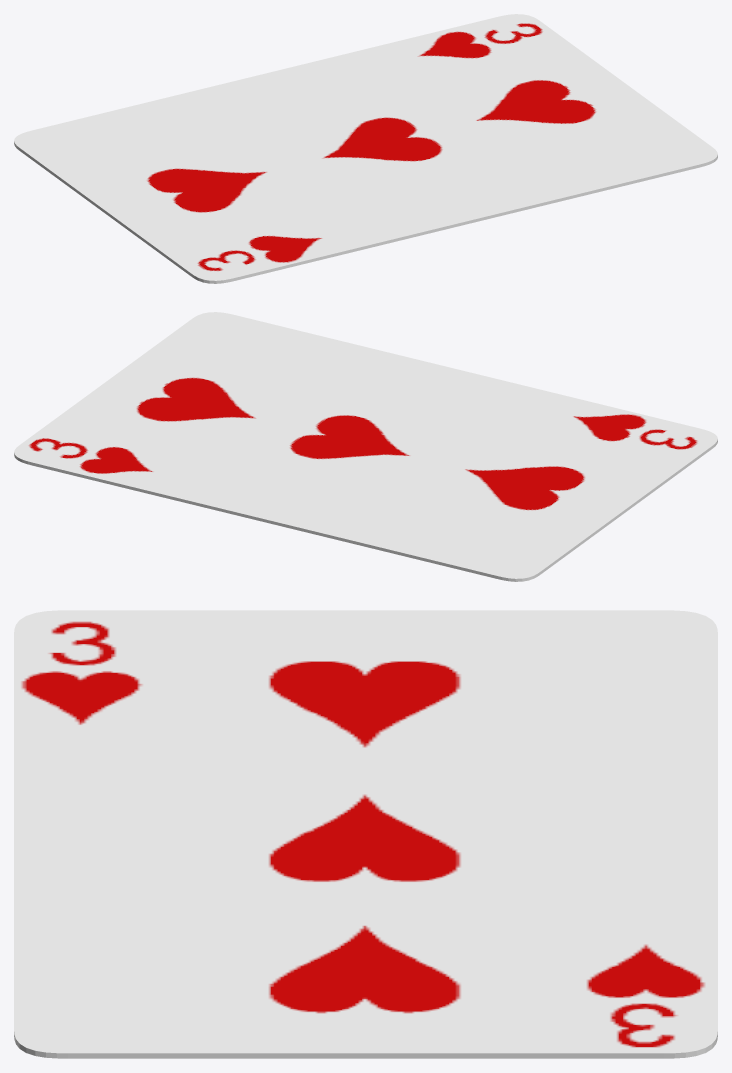
File: 3_of_hearts.gltf
3 renders of one model, top to bottom at view 1: azimuth 30°, elevation 25°; view 2: azimuth 150°, elevation 25°; view 3: azimuth 270°, elevation 25°, orthographic. The views are drawn at different scales.
Visible parts, largest first — view 1: Plane; view 2: Plane; view 3: Plane.
Part boxes in pixels (x1=…): Plane: x1=14, y1=14, x2=717, y2=283; Plane: x1=14, y1=312, x2=717, y2=581; Plane: x1=14, y1=610, x2=717, y2=1058.
Bounding box in the file's own units: 0.09 × 0.0005 × 0.0605.
Materials: 1 (1 with a texture image).
